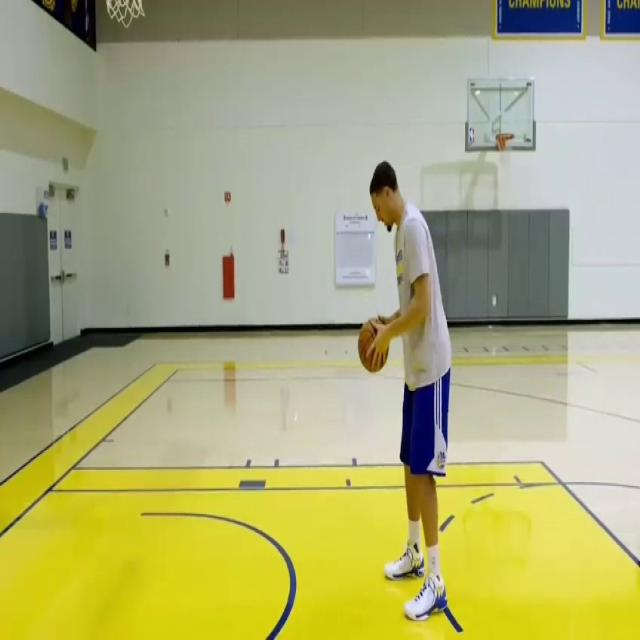ball: (357, 319, 389, 372)
